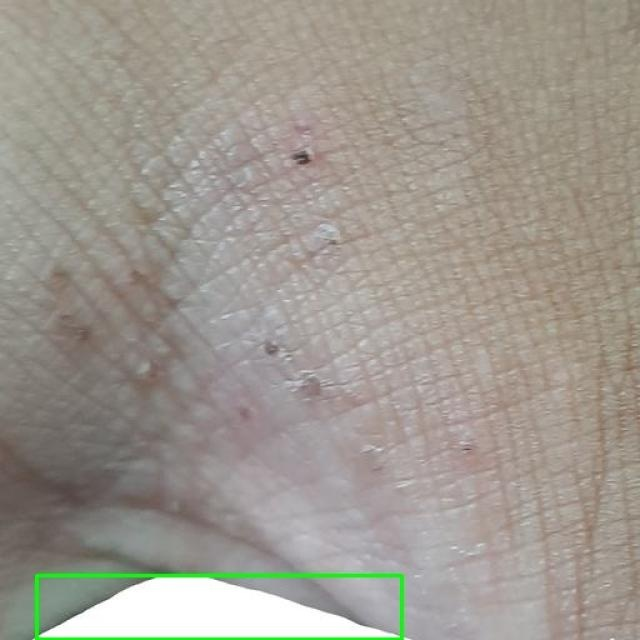Scabies: (36, 575, 401, 639)
